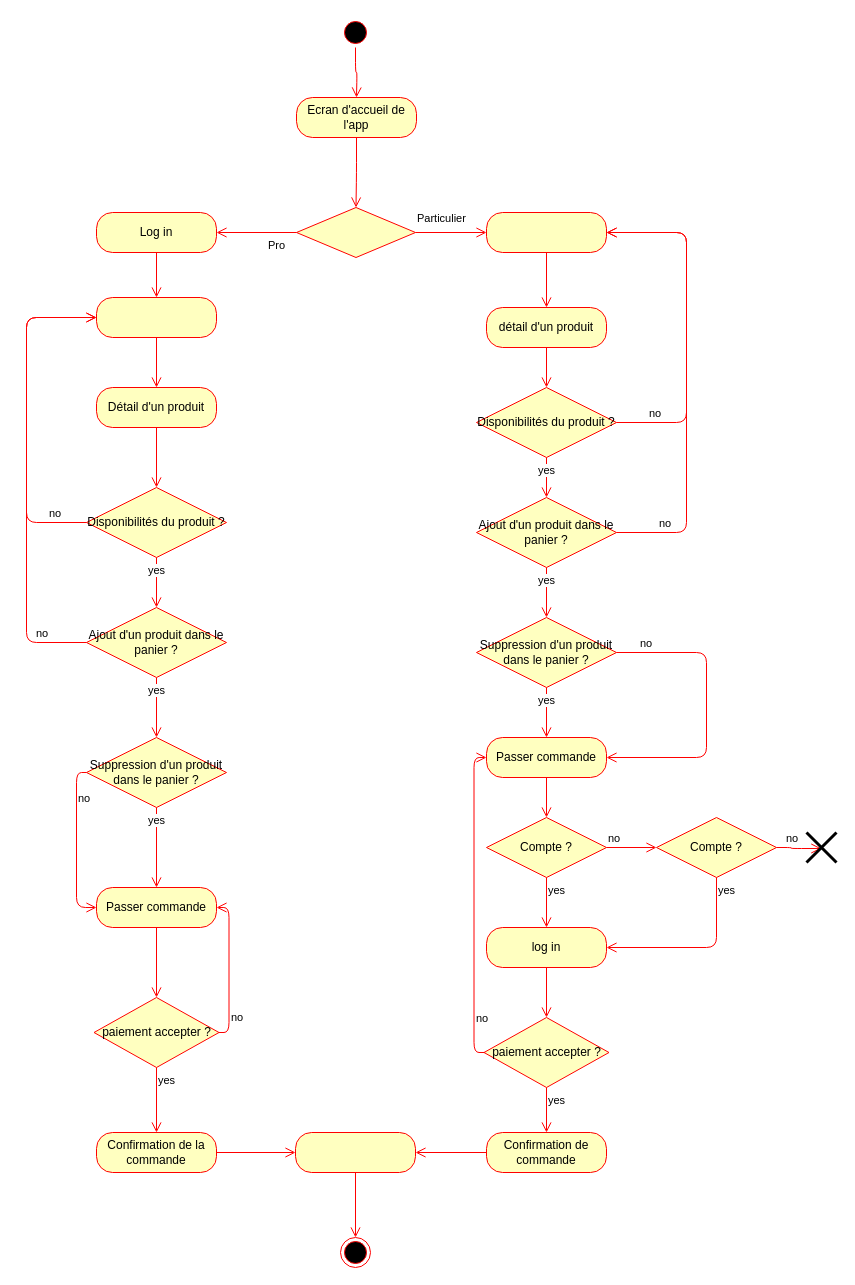
The diagram is 855 pixels wide and 1285 high, and some of its shapes have lost their labels. The centre of each missing label's shape, as x and y in pixels:
catalogue client particulier: the point at 546,232
Consultation du catalogue pro: the point at 156,317
Mis à jour du stock: the point at 355,1152
Type de client ?: the point at 356,232
